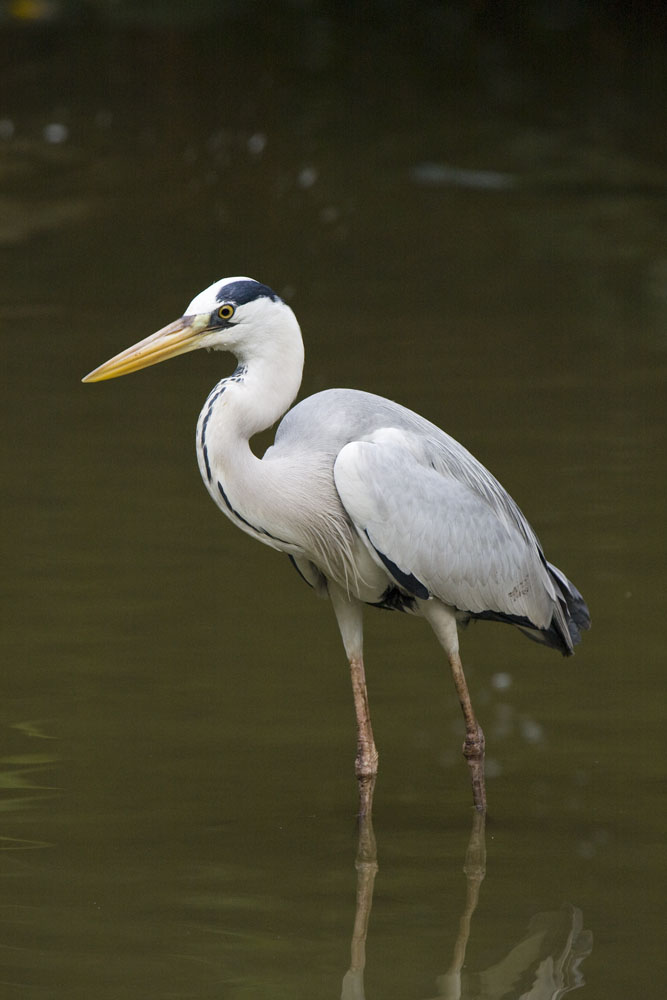heron: (79, 272, 589, 807)
